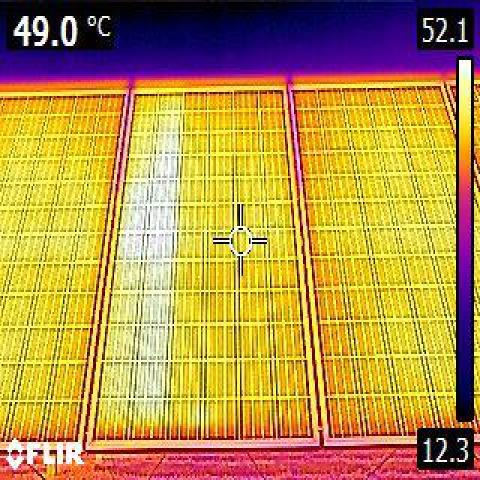fault: (90, 88, 185, 439)
